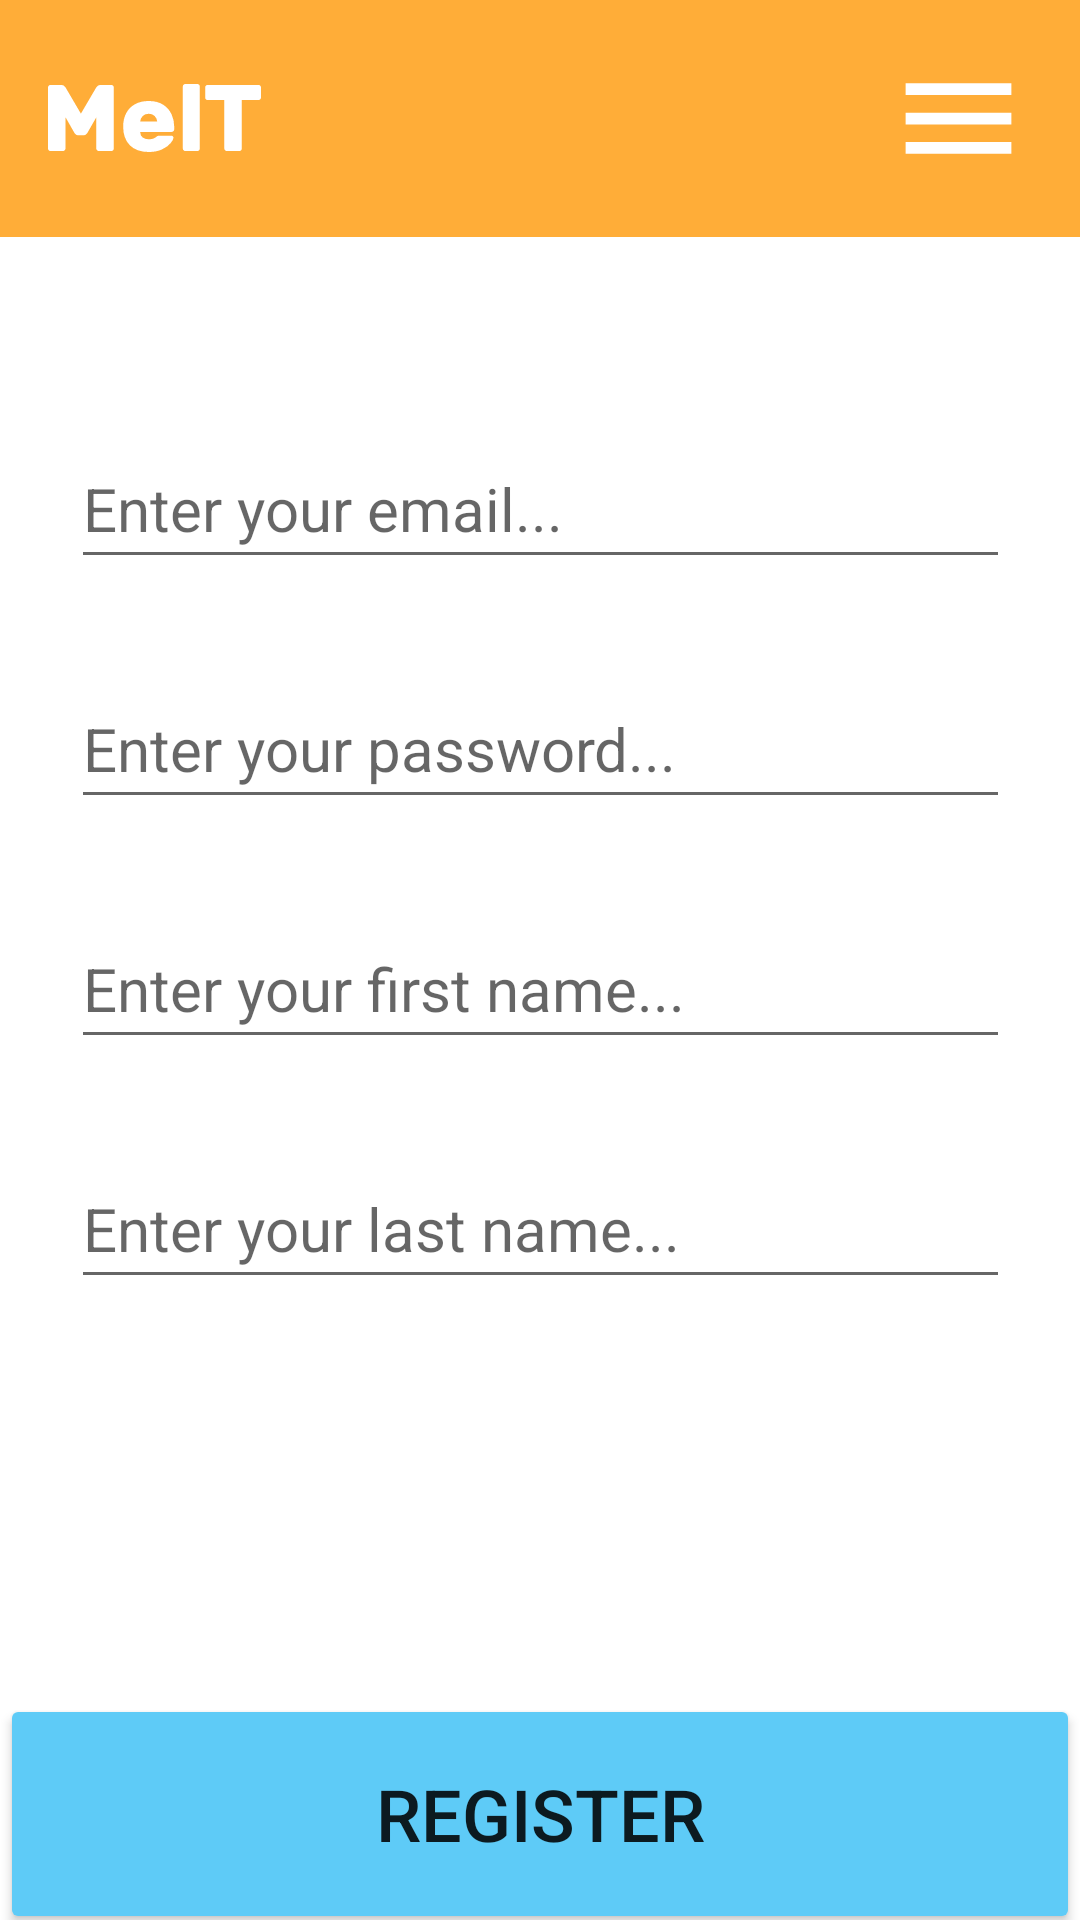

Where to tap for icons on this 1080 × 1920 app screen, as point (x, y):
menu: point (958, 118)
